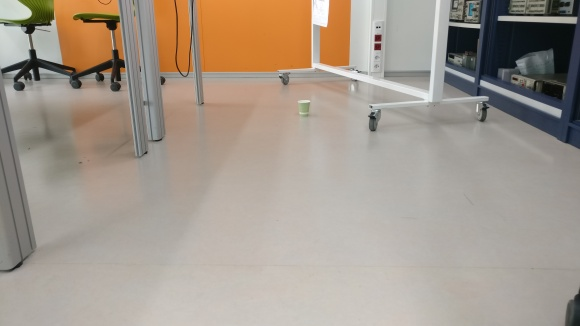cup: (296, 99, 312, 117)
